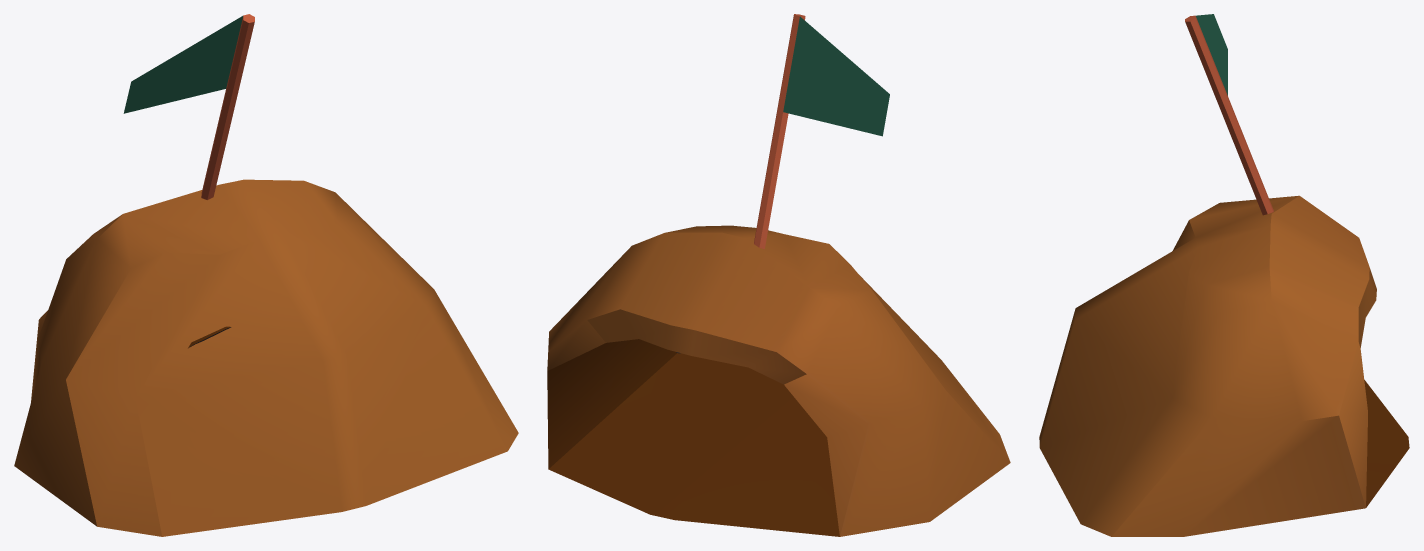
The model's file is SM_EndPoint.fbx.
The picture shows the model from 3 angles, left to right: view 1: azimuth 30°, elevation 25°; view 2: azimuth 150°, elevation 25°; view 3: azimuth 270°, elevation 25°; orthographic projection. The views are drawn at different scales.
Parts seen in each view (by area): view 1: SM_EndPoint; view 2: SM_EndPoint; view 3: SM_EndPoint.
Part boxes in pixels (x1,y1,x2,y2): SM_EndPoint: (14, 14, 518, 536); SM_EndPoint: (547, 14, 1010, 536); SM_EndPoint: (1039, 14, 1409, 536).
Size of the model in its own units: 2.04 by 2.09 by 1.69.
